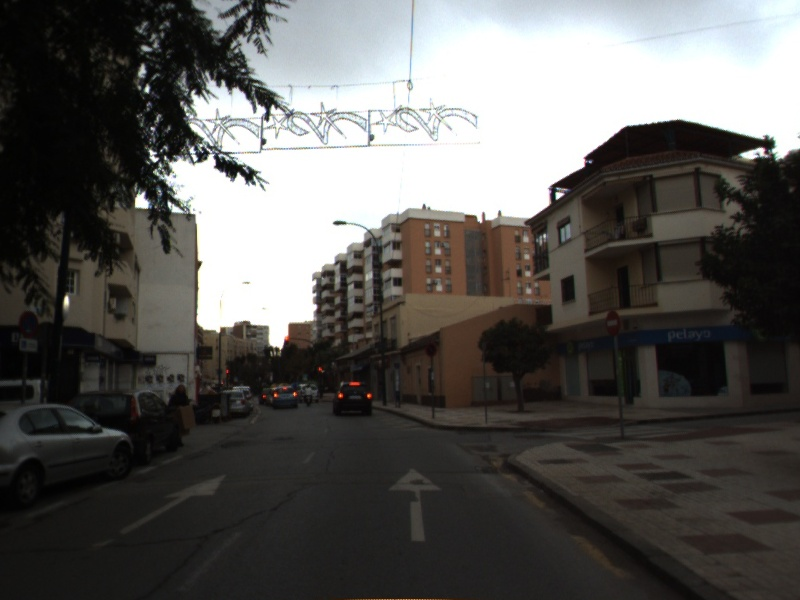STRAIGHT: (115, 468, 233, 538), (384, 464, 447, 545)
